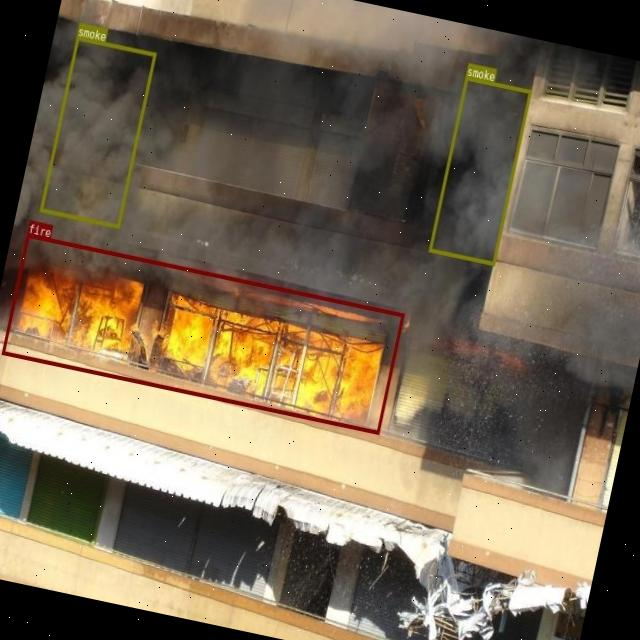fire: (1, 234, 403, 434)
smoke: (38, 35, 156, 228), (428, 76, 530, 264)
